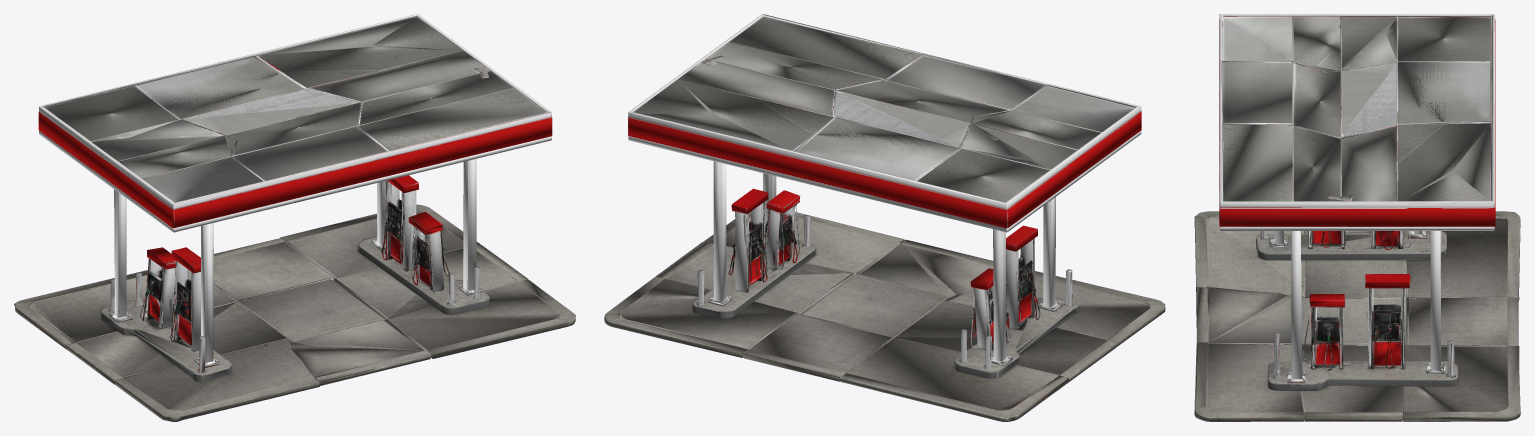
3 renders of one model, left to right at view 1: azimuth 30°, elevation 25°; view 2: azimuth 150°, elevation 25°; view 3: azimuth 270°, elevation 25°, orthographic. The views are drawn at different scales.
Size of the model in its own units: 0.9507 by 0.4536 by 0.6348.
Materials: 1 (1 with a texture image).
